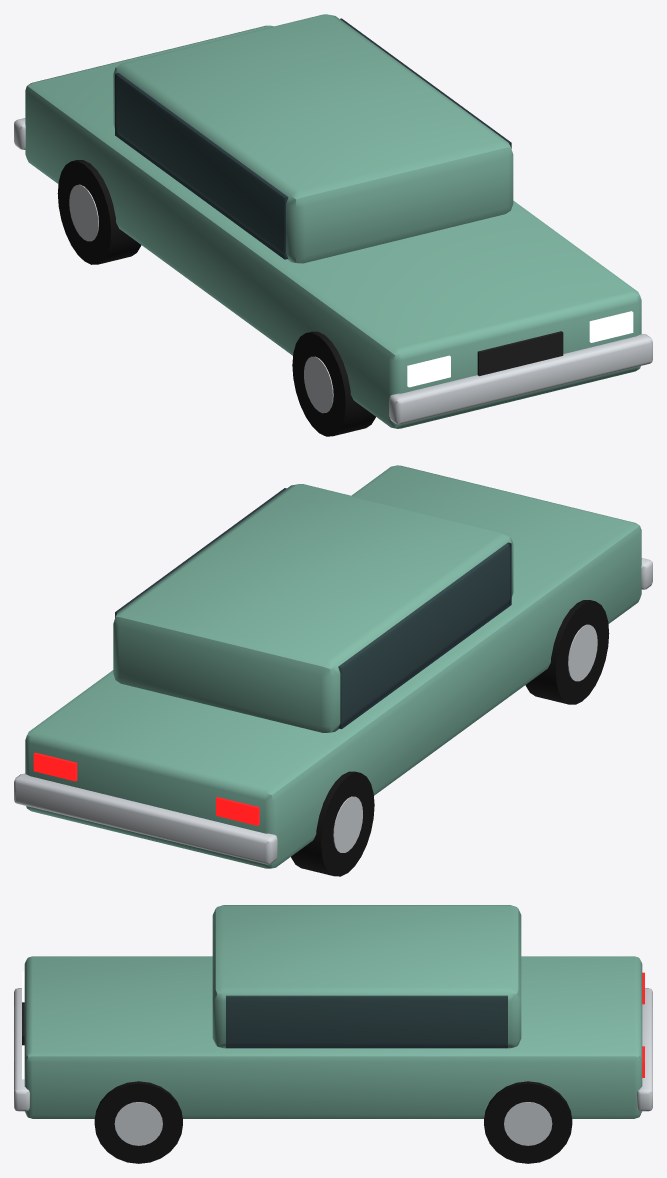
File: sedan.glb
The picture shows the model from 3 angles, top to bottom: view 1: azimuth 30°, elevation 25°; view 2: azimuth 150°, elevation 25°; view 3: azimuth 270°, elevation 25°; orthographic projection. The views are drawn at different scales.
Visible parts, largest first — view 1: car, Cylinder.002, Cylinder, Cylinder.001, Cylinder.003; view 2: car, Cylinder.002, Cylinder, Cylinder.001, Cylinder.003; view 3: car, Cylinder.004, Cylinder.006, Cylinder.005, Cylinder.007.
Boxes of the visible parts, left/top/right/bottom form: car: left=14, top=14, right=652, bottom=428; Cylinder.002: left=57, top=160, right=141, bottom=264; Cylinder: left=292, top=331, right=375, bottom=436; Cylinder.001: left=304, top=356, right=333, bottom=413; Cylinder.003: left=69, top=184, right=98, bottom=241; car: left=14, top=465, right=652, bottom=868; Cylinder.002: left=291, top=771, right=374, bottom=876; Cylinder: left=525, top=600, right=609, bottom=704; Cylinder.001: left=568, top=624, right=597, bottom=681; Cylinder.003: left=333, top=796, right=362, bottom=852; car: left=14, top=905, right=652, bottom=1118; Cylinder.004: left=94, top=1081, right=182, bottom=1163; Cylinder.006: left=484, top=1081, right=572, bottom=1163; Cylinder.005: left=114, top=1102, right=162, bottom=1145; Cylinder.007: left=504, top=1102, right=552, bottom=1145.
Size of the model in its own units: 1.89 by 1.35 by 4.76.
